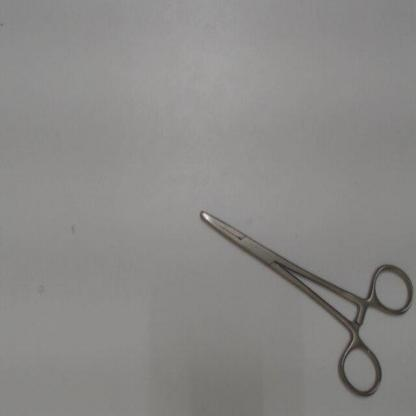Mayo Needle Holder: (191, 201, 415, 407)
